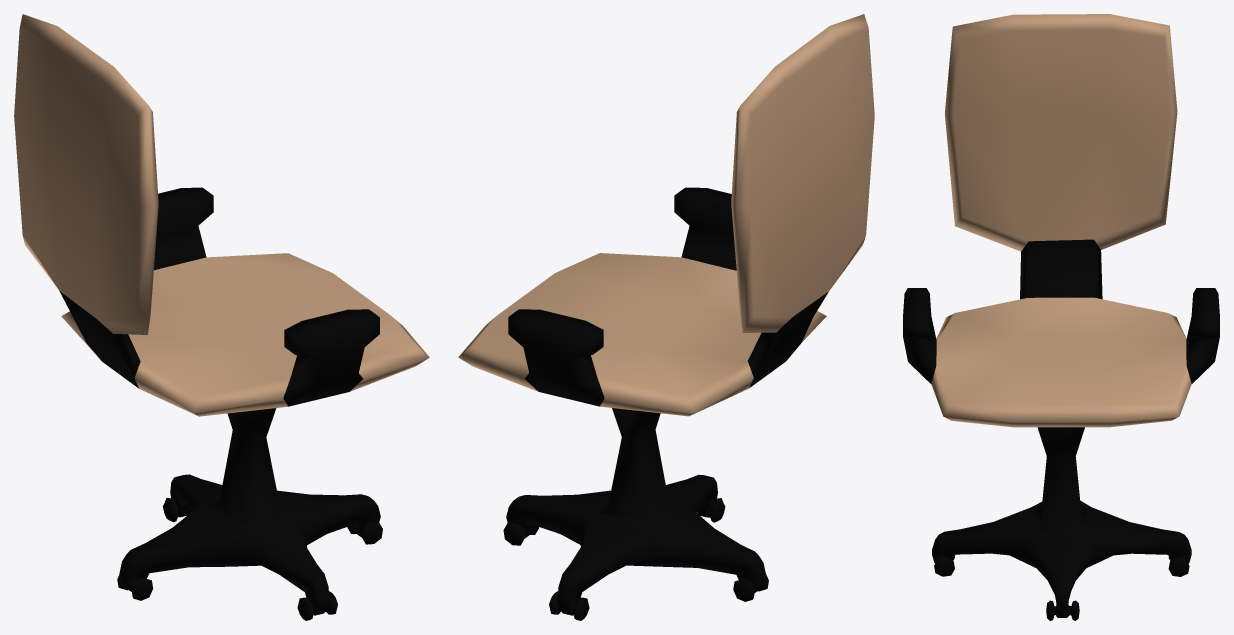
File: Chair.fbx
The picture shows the model from 3 angles, left to right: view 1: azimuth 30°, elevation 25°; view 2: azimuth 150°, elevation 25°; view 3: azimuth 270°, elevation 25°; orthographic projection. The views are drawn at different scales.
Parts seen in each view (by area): view 1: chair; view 2: chair; view 3: chair.
Boxes of the visible parts, x1,y1,x2,y2 form: chair: [14, 14, 429, 620]; chair: [458, 14, 874, 620]; chair: [903, 14, 1219, 620].
Size of the model in its own units: 1.95 by 3.42 by 2.02.
